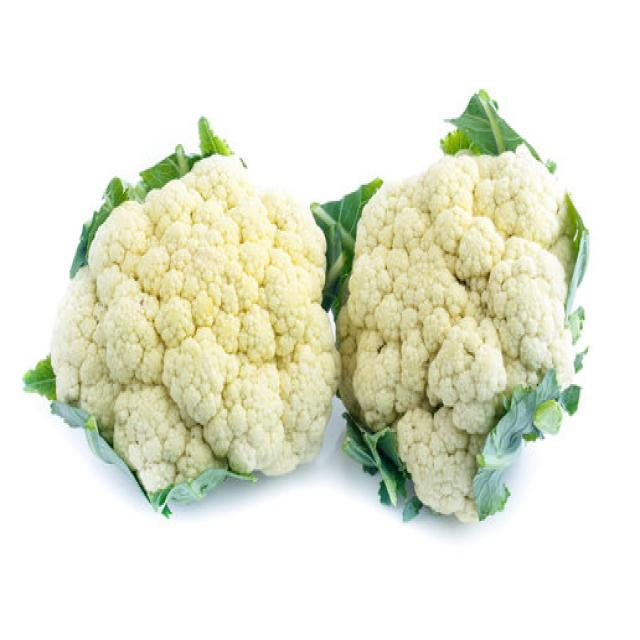Cauliflower: (48, 150, 341, 508), (335, 142, 588, 523)
